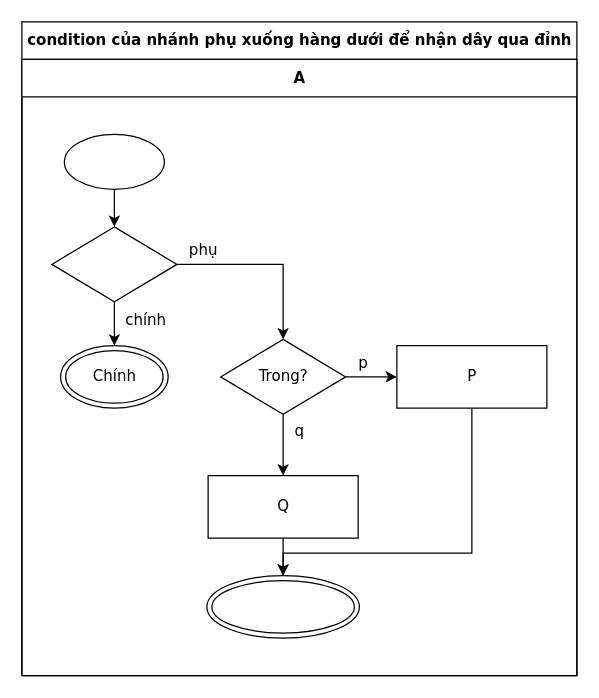
Some shapes in this 599 by 698 pixel diagram are drawn without their labels. The centre of each missing label's shape, as x and y in pixels:
"Hợp trong" goes at (282,606).
"Ngoài?" goes at (114,264).
"Vào" goes at (113,161).
